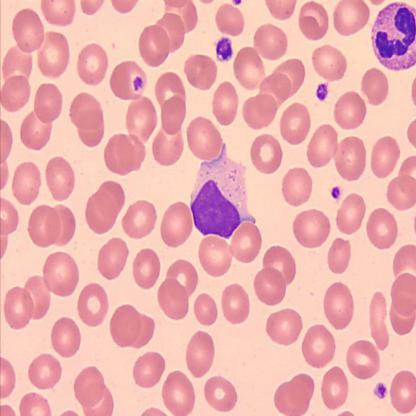Atypical lymphocyte: (193, 148, 254, 238), (373, 2, 415, 73)
